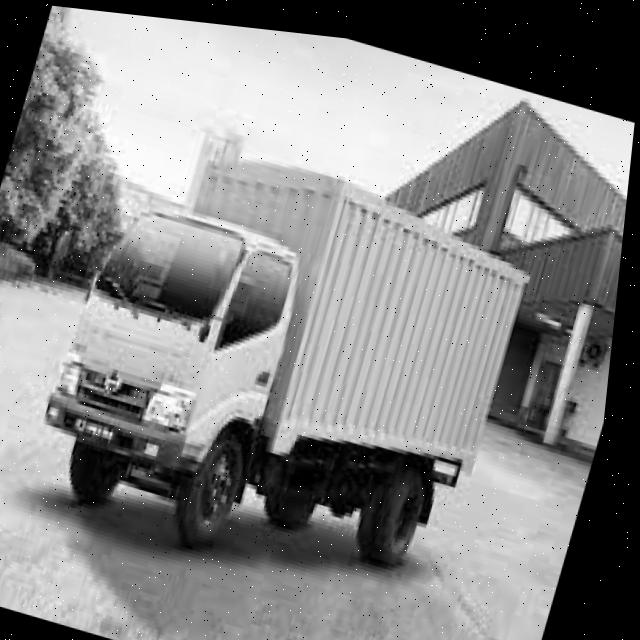truck: (1, 140, 363, 578)
